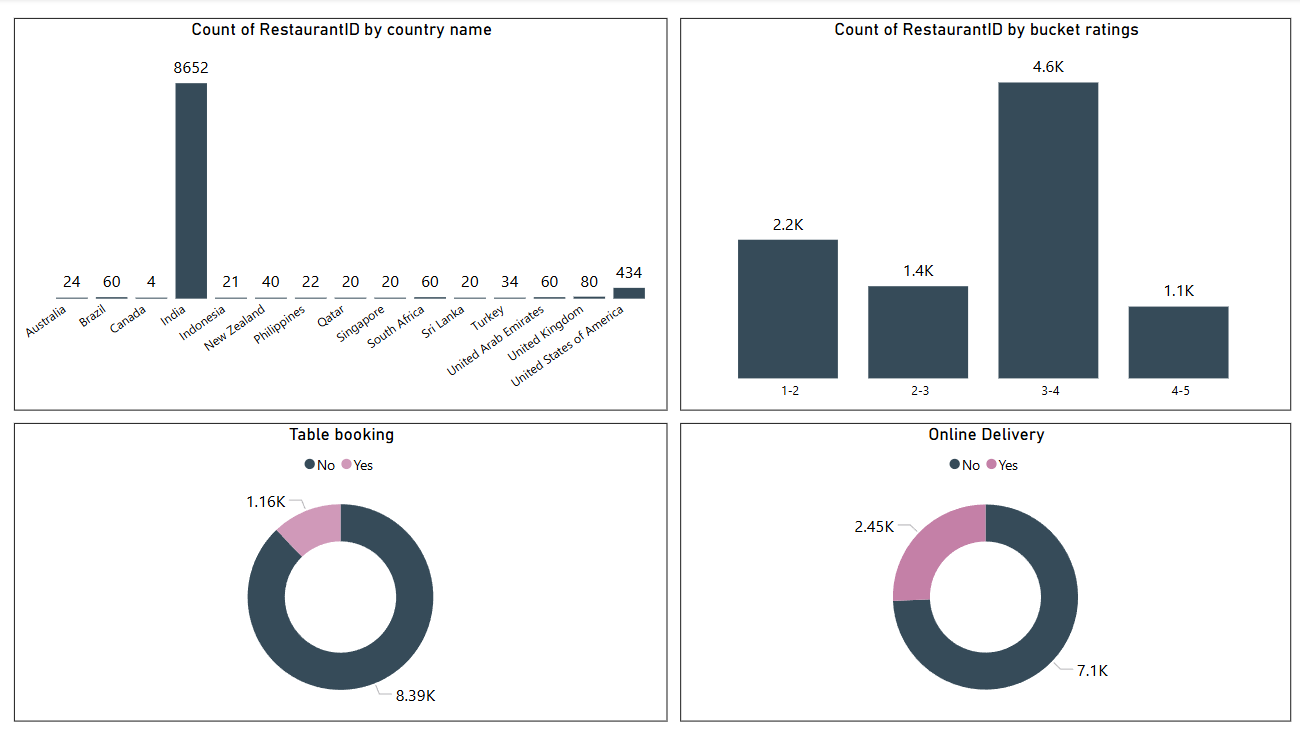

The page's visual inventory and layout, read from the dashboard file:
{"tool":"powerbi","page":{"name":"Restos","canvas":[1280,720],"ordinal":1},"visuals":[{"type":"columnChart","fields":{"Category":["Sheet2.country name","cuisines copy.City"],"Y":["CountNonNull(cuisines copy.RestaurantID)"]},"box":[14.7,19.6,639.5,384],"z":0},{"type":"clusteredColumnChart","fields":{"Category":["cuisines copy.bucket ratings"],"Y":["CountNonNull(cuisines copy.RestaurantID)"]},"box":[666.4,19.6,598,384],"z":1000},{"type":"donutChart","title":"Table booking ","fields":{"Category":["cuisines copy.Has_Table_booking"],"Y":["CountNonNull(cuisines copy.Has_Table_booking)"]},"box":[14.7,415.8,639.5,292.3],"z":2000},{"type":"donutChart","title":"Online Delivery","fields":{"Category":["cuisines copy.Has_Online_delivery"],"Y":["CountNonNull(cuisines copy.Has_Online_delivery)"]},"box":[666.4,415.8,598,292.3],"z":3000}]}

Visuals, with their boxes in screenshot pixels (x1, y1, x2, y2), scaled from the page's 1280x720 canvas onto the 1300x733 screenshot:
columnChart - Sheet2.country name x cuisines copy.City: select_region(15, 20, 664, 411)
clusteredColumnChart - cuisines copy.bucket ratings x CountNonNull(cuisines copy.RestaurantID): select_region(677, 20, 1284, 411)
"Table booking " donutChart: select_region(15, 423, 664, 721)
"Online Delivery" donutChart: select_region(677, 423, 1284, 721)
